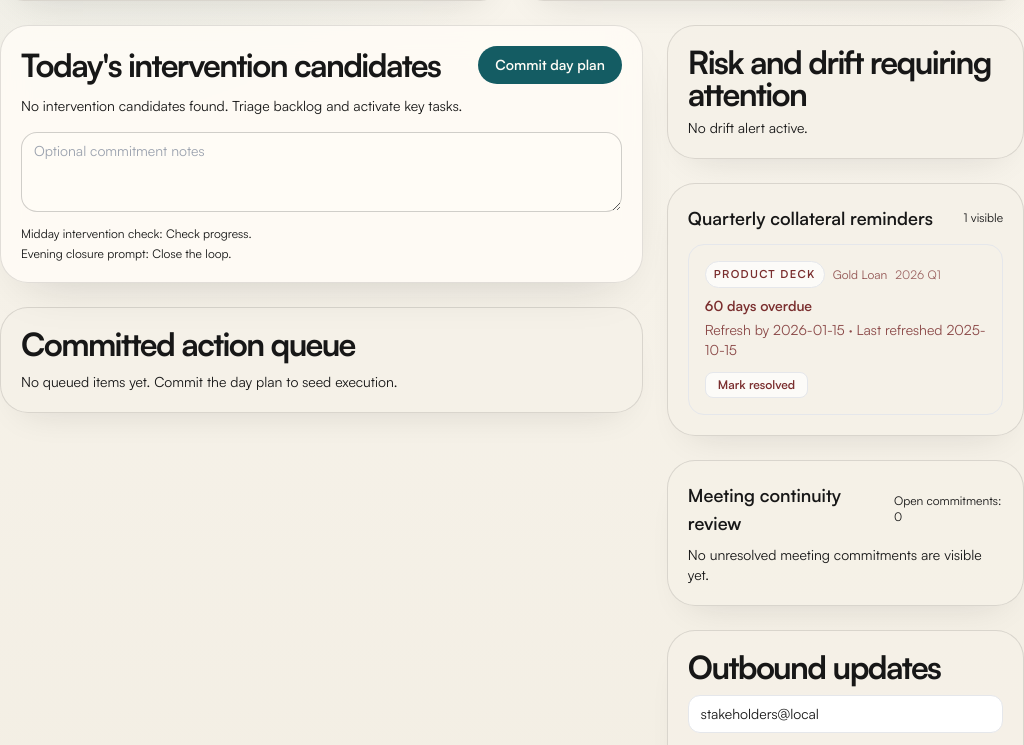
Scenario: AssistantPage collateral reminders › resolves a visible collateral reminder and reloads the list
(page scrolled)
What coordinates should you click on to do the following:
click the button "Mark resolved"
I would click on:
 (756, 385)
Its box is [705, 372, 808, 398].
(page scrolled)
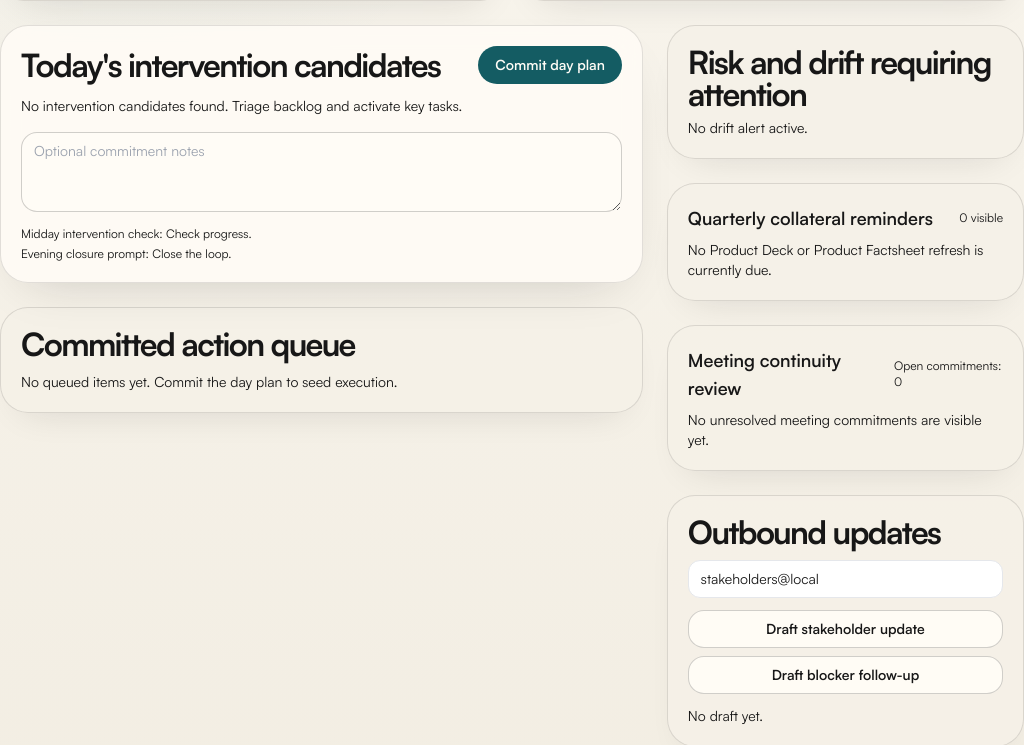
expect the text "No Product Deck or Product Factsheet refresh is currently due." is shown: met, box [688, 240, 1003, 280]
